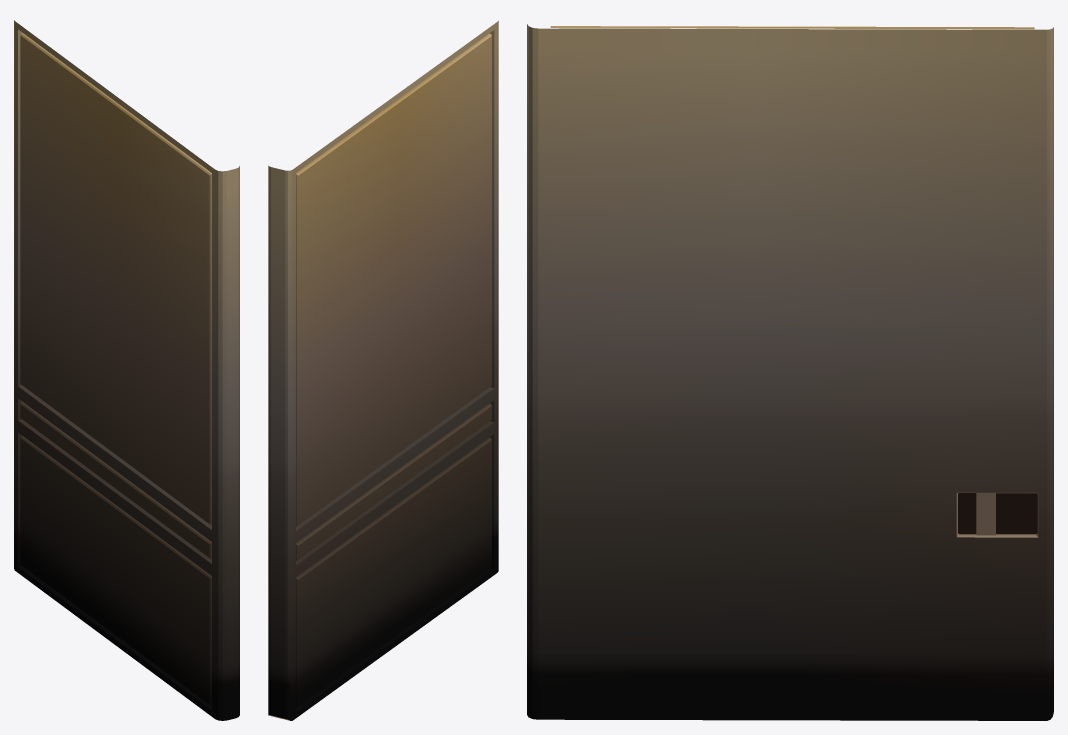
The model's file is toiled_door.glb.
The picture shows the model from 3 angles, left to right: view 1: azimuth 30°, elevation 25°; view 2: azimuth 150°, elevation 25°; view 3: azimuth 270°, elevation 25°; orthographic projection. The views are drawn at different scales.
Visible parts, largest first — view 1: cabine.002; view 2: cabine.002; view 3: cabine.002.
Boxes of the visible parts, x1,y1,x2,y2 form: cabine.002: [14, 20, 239, 720]; cabine.002: [268, 20, 498, 720]; cabine.002: [527, 24, 1053, 720].
Size of the model in its own units: 0.158 by 3.24 by 2.23.
Materials: 1 (1 with a texture image).
